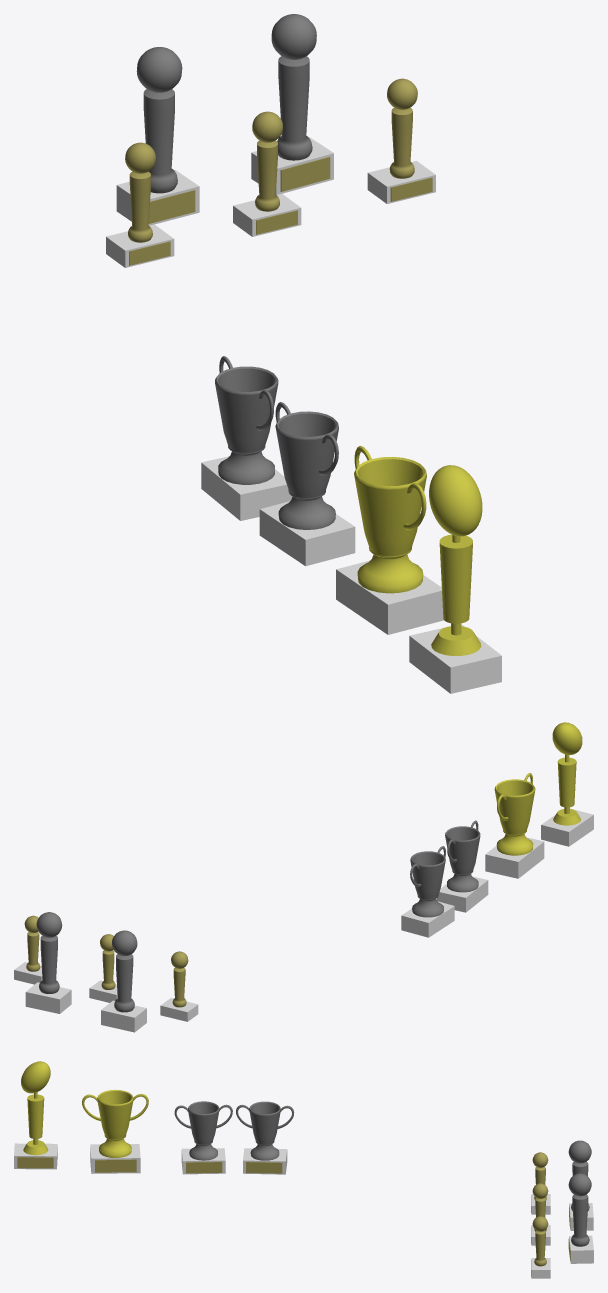
File: Trophies.fbx
The picture shows the model from 3 angles, top to bottom: view 1: azimuth 30°, elevation 25°; view 2: azimuth 150°, elevation 25°; view 3: azimuth 270°, elevation 25°; orthographic projection. The views are drawn at different scales.
Visible parts, largest first — view 1: Trophy1, Trophy, Trophy2, Trophy5, Trophy6, Trophy3, Trophy7, Trophy4, Trophy8; view 2: Trophy1, Trophy, Trophy5, Trophy2, Trophy6, Trophy3, Trophy4, Trophy8, Trophy7; view 3: Trophy1, Trophy, Trophy2, Trophy5, Trophy6, Trophy3, Trophy7, Trophy8, Trophy4.
Boxes of the visible parts, bbox=[...] form: Trophy1: bbox=[336, 446, 443, 634]; Trophy: bbox=[409, 465, 501, 693]; Trophy2: bbox=[259, 402, 355, 566]; Trophy5: bbox=[201, 356, 292, 520]; Trophy6: bbox=[251, 14, 333, 194]; Trophy3: bbox=[116, 47, 199, 225]; Trophy7: bbox=[367, 78, 435, 203]; Trophy4: bbox=[106, 142, 174, 267]; Trophy8: bbox=[233, 111, 301, 236]; Trophy1: bbox=[485, 773, 544, 878]; Trophy: bbox=[541, 722, 593, 846]; Trophy5: bbox=[401, 846, 454, 937]; Trophy2: bbox=[437, 820, 488, 912]; Trophy6: bbox=[25, 912, 71, 1013]; Trophy3: bbox=[101, 930, 146, 1032]; Trophy4: bbox=[160, 951, 198, 1021]; Trophy8: bbox=[89, 934, 117, 1002]; Trophy7: bbox=[14, 915, 42, 984]; Trophy1: bbox=[82, 1089, 148, 1173]; Trophy: bbox=[14, 1061, 57, 1169]; Trophy2: bbox=[174, 1101, 232, 1174]; Trophy5: bbox=[236, 1101, 294, 1174]; Trophy6: bbox=[568, 1173, 593, 1263]; Trophy3: bbox=[568, 1140, 593, 1230]; Trophy7: bbox=[531, 1216, 550, 1278]; Trophy8: bbox=[531, 1183, 550, 1245]; Trophy4: bbox=[531, 1152, 550, 1214].
Bounding box in the file's own units: 2.5 × 0.9599 × 5.01.
